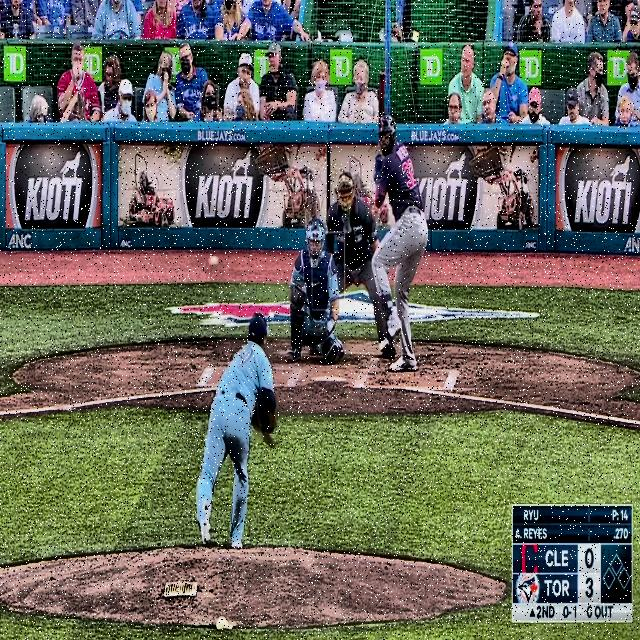baseball: (208, 254, 218, 268)
